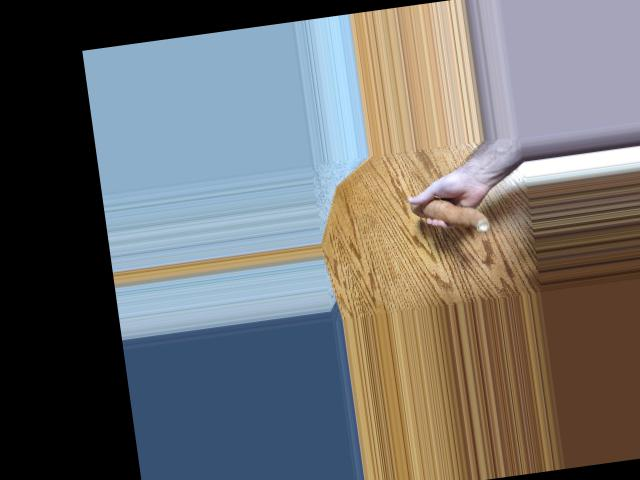sweet_potato: (411, 188, 493, 239)
